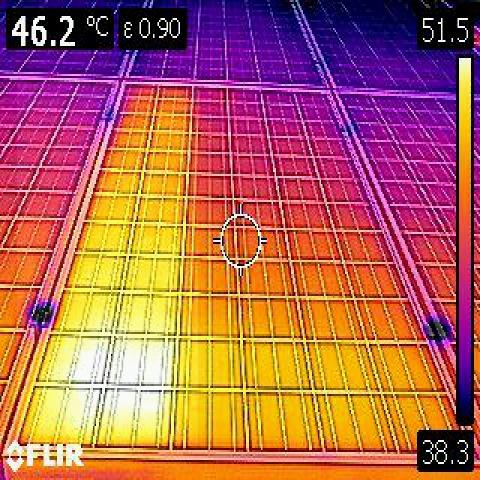fault: (17, 82, 198, 443)
